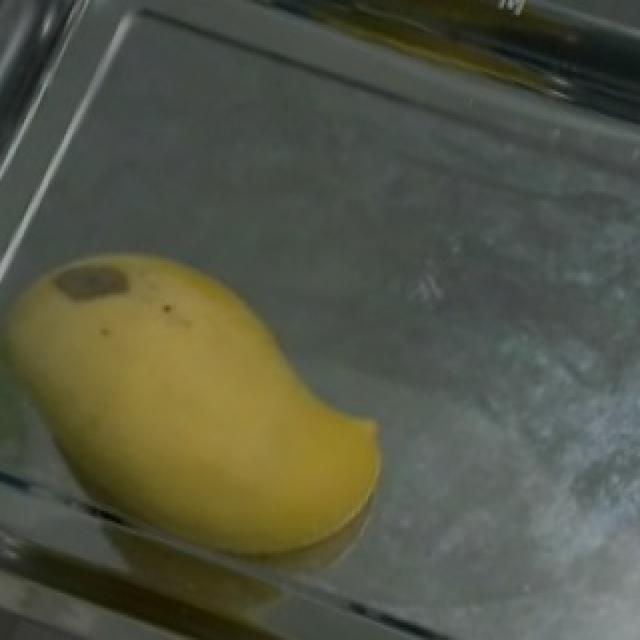fruit: (2, 184, 386, 578)
